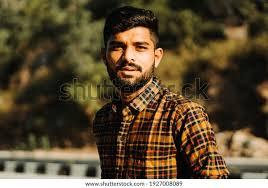Human: (79, 2, 220, 179)
